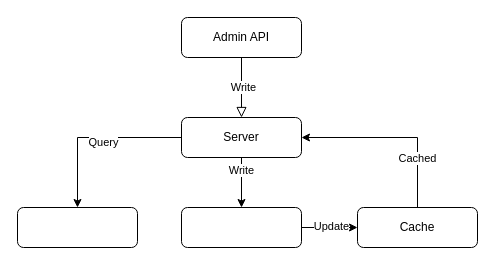
This 495x265 diagram has some shape labels left out. Here are the shapes that lost their labels. From the top down, the centre of each, then its label:
At point 77,227: "Public API".
At point 241,227: "MongoDB".
